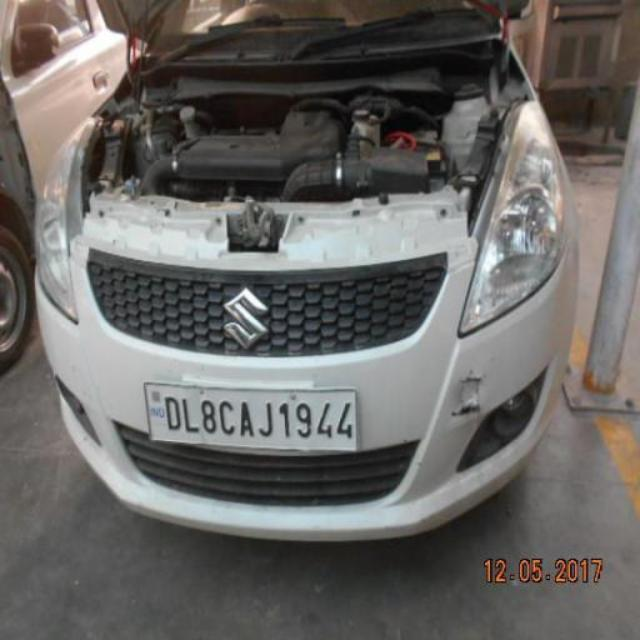crack: (457, 366, 483, 426)
